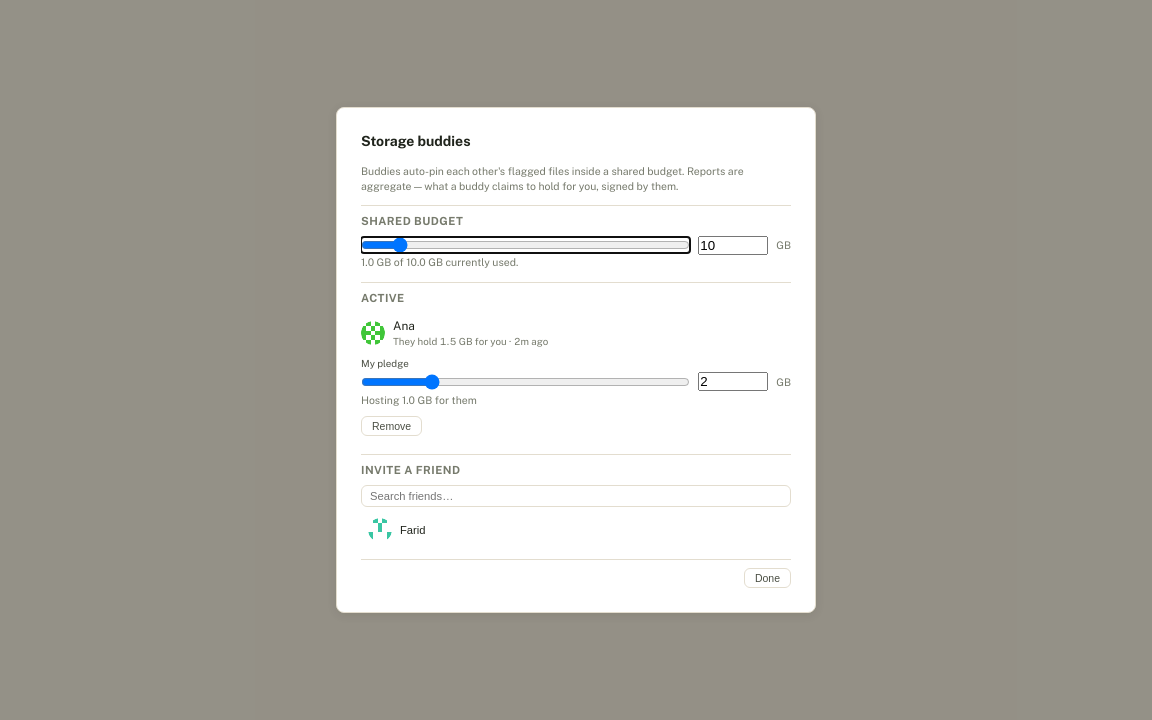
it: StorageBuddySheet › pledge slider and number input stay in sync (shared value)
Expected: the number field with test id "pledge-number" holds "2", [698,372,768,391]
Set the slider with test id "pledge-slider" to "4". click: (494, 382)
box: [361,374,690,390]
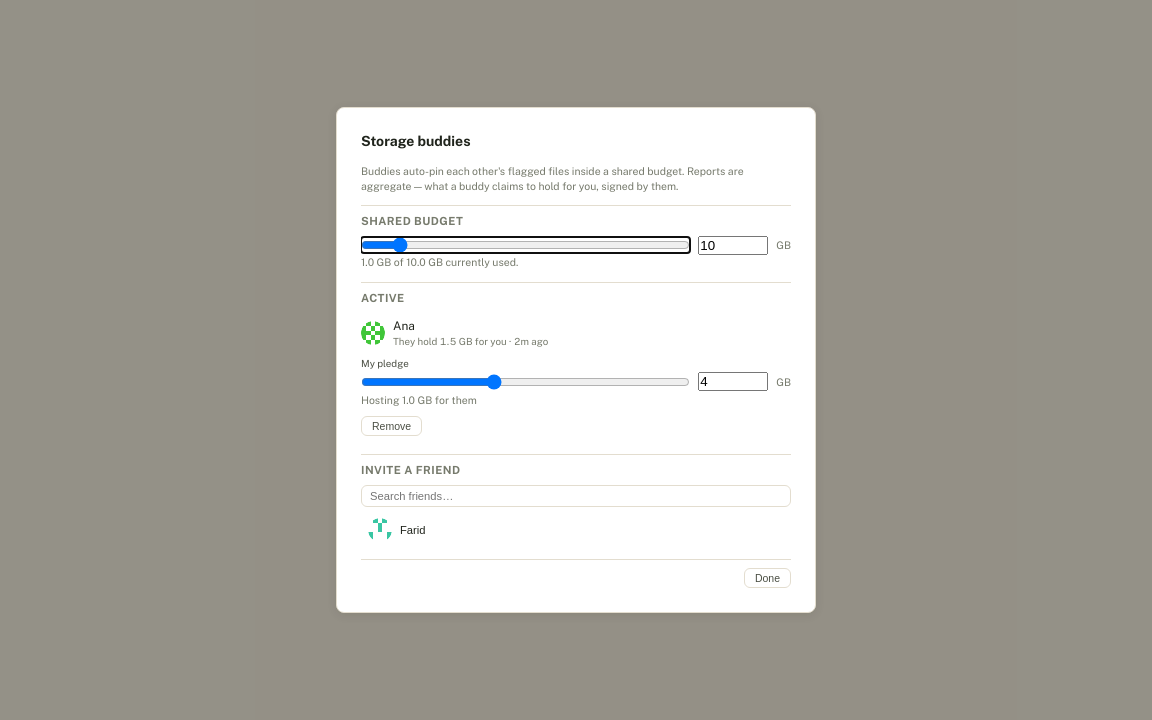
Now the number field with test id "pledge-number" holds "4", box [698,372,768,391]
